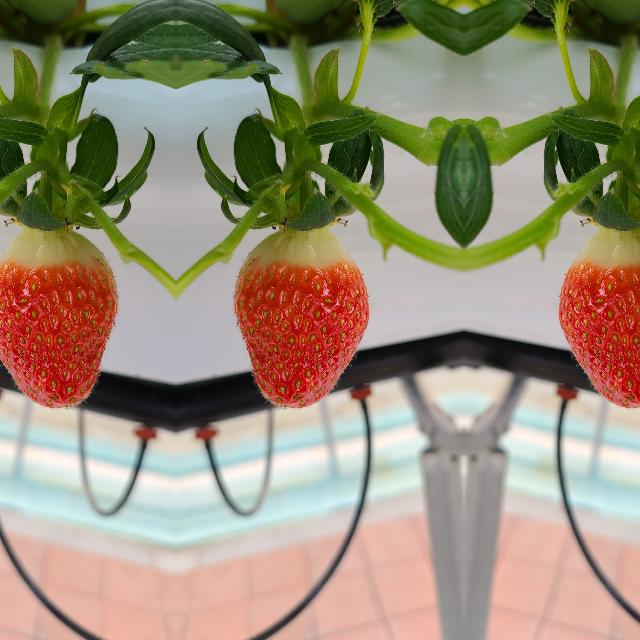Health_100: (232, 230, 371, 410), (0, 230, 118, 410), (555, 230, 640, 410)
